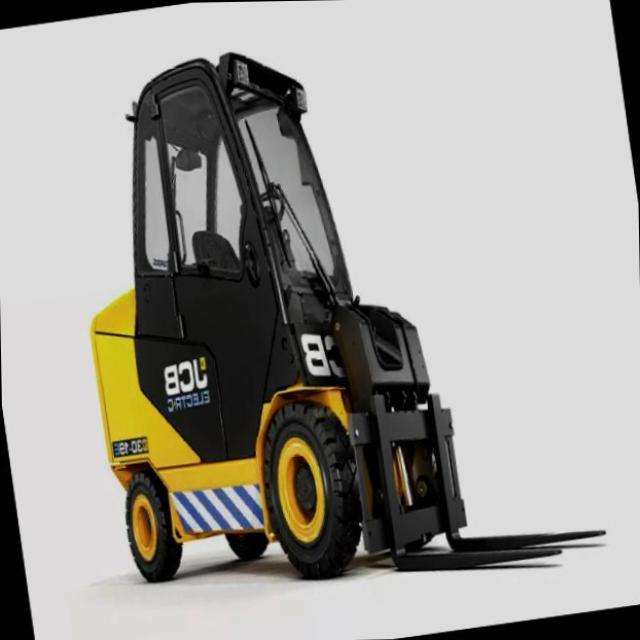forklift: (35, 1, 514, 640)
